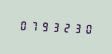nine: (39, 19, 49, 33)
seven: (28, 18, 38, 33)
three: (50, 19, 60, 34), (72, 20, 82, 35)
two: (61, 20, 71, 34)
zero: (17, 17, 27, 32), (83, 21, 93, 35)
